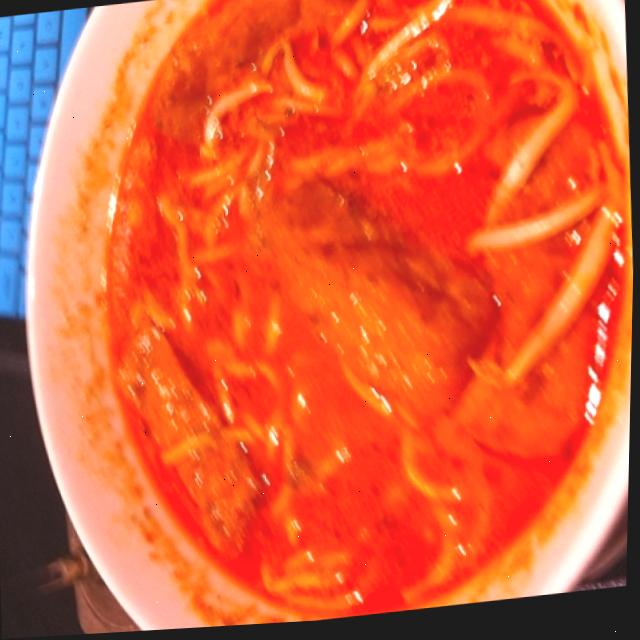面条主食: (34, 0, 640, 638)
